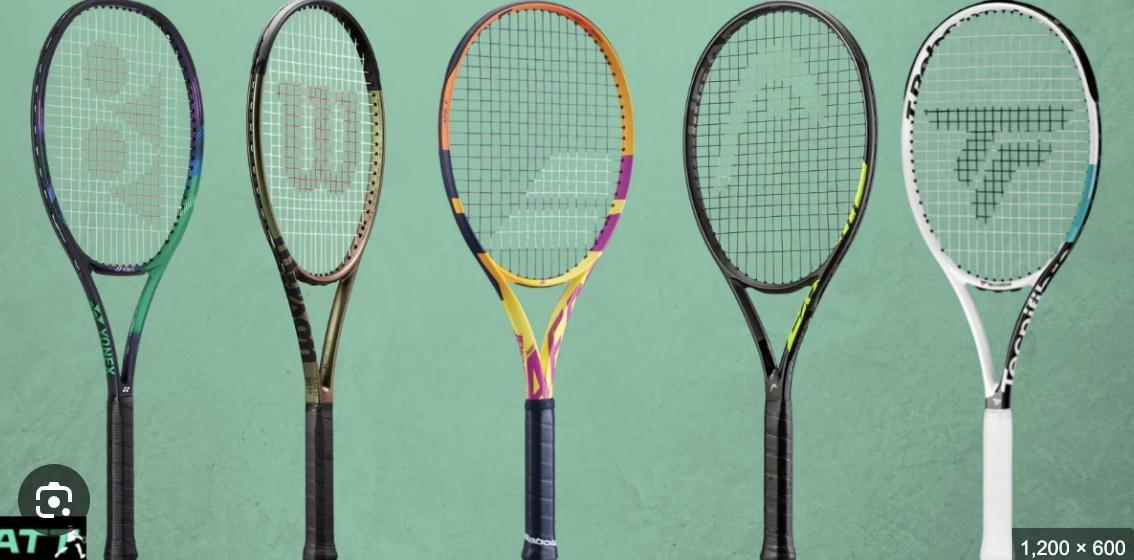Tennis-Racket: (902, 0, 1100, 560), (438, 2, 633, 560), (684, 2, 877, 560), (31, 0, 204, 560), (248, 0, 385, 560)
